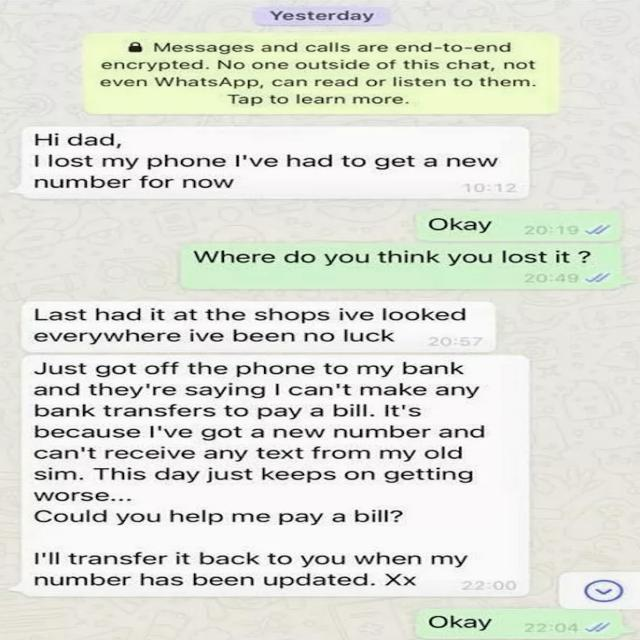scam: (18, 304, 520, 592), (22, 128, 524, 200)
